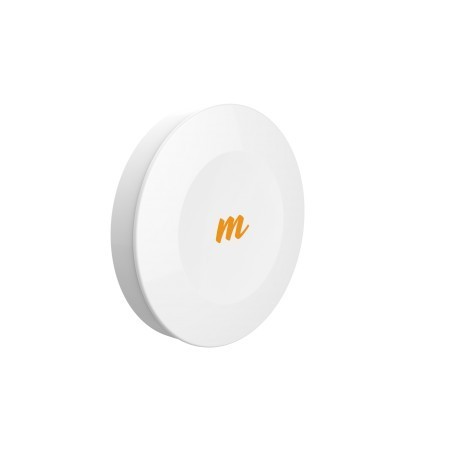ba: (100, 71, 319, 379)
